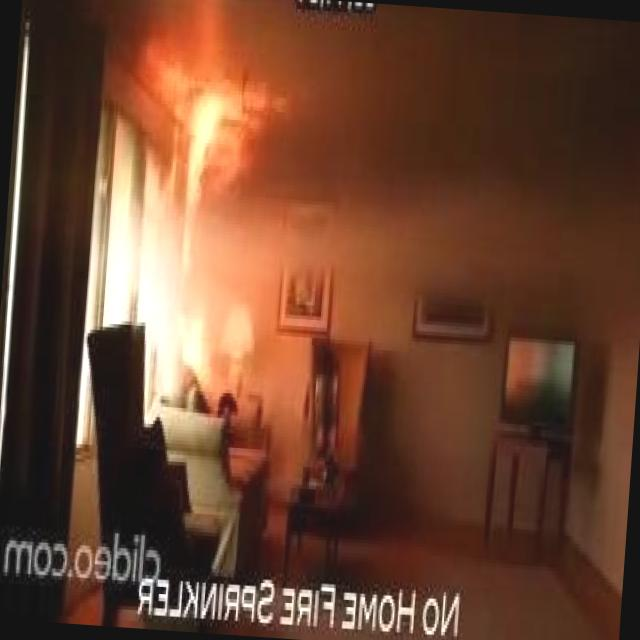fire: (110, 0, 295, 393)
